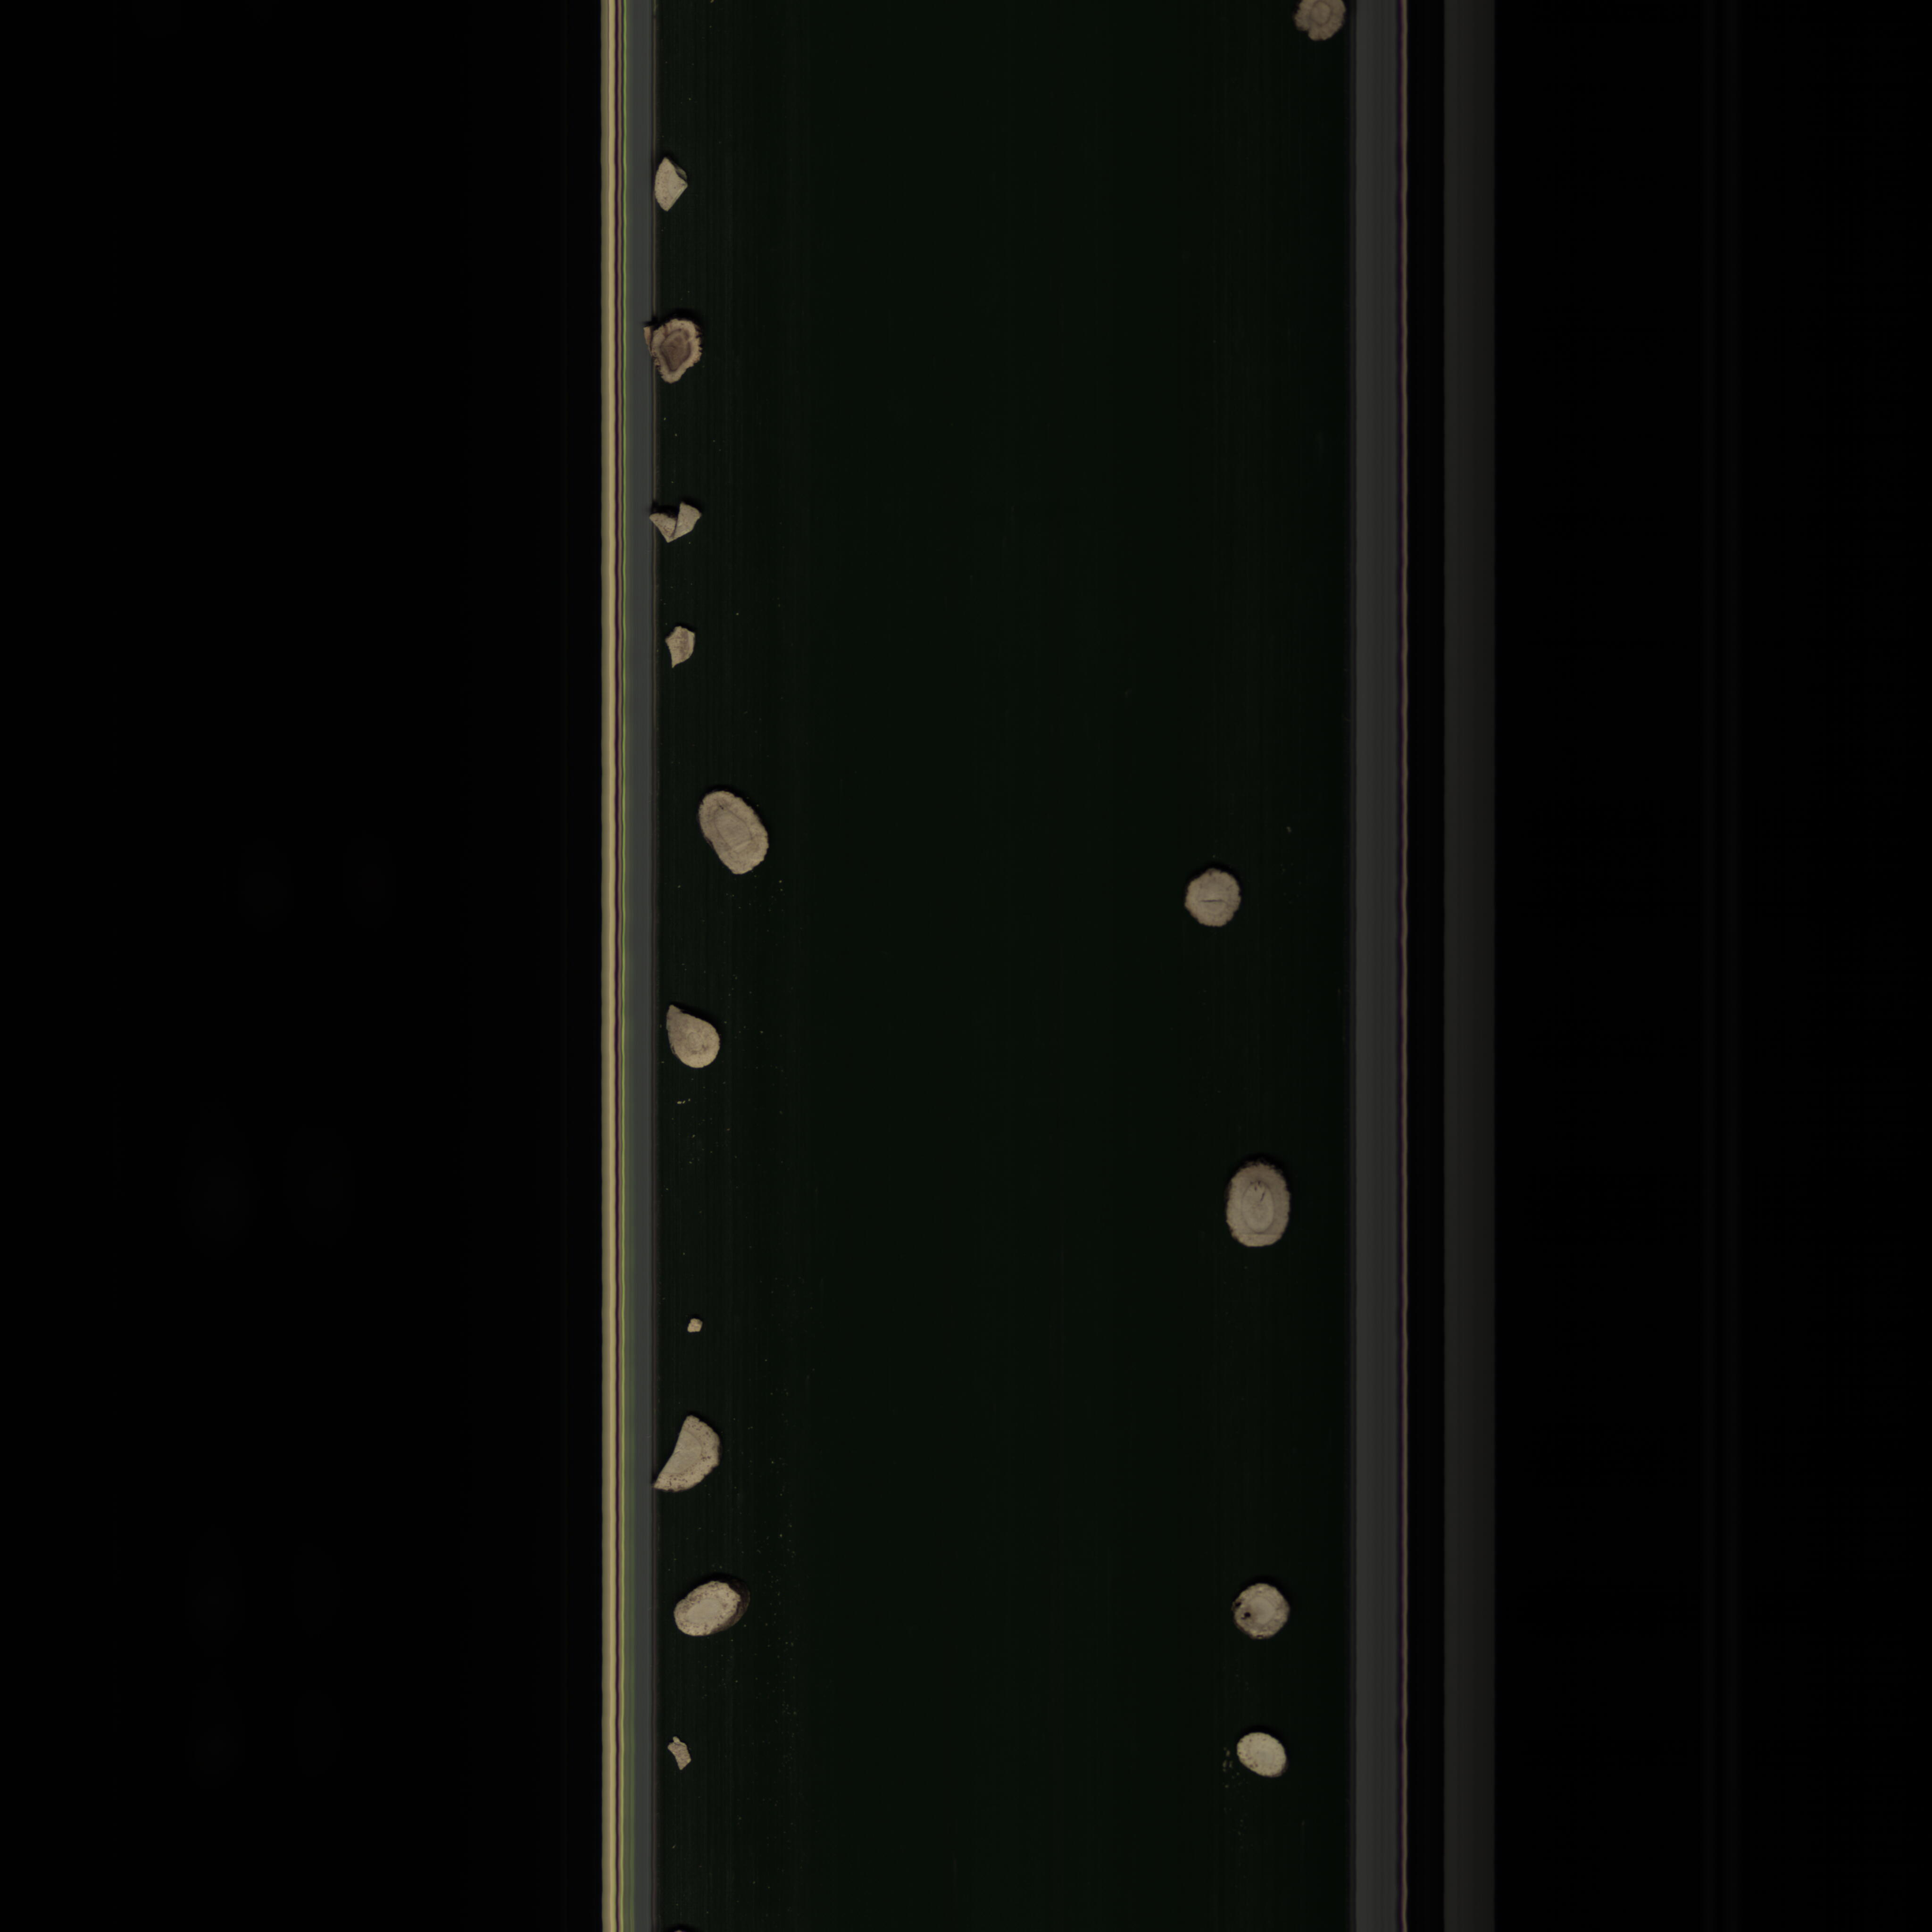debris: (656, 1401, 727, 1500), (644, 495, 706, 554), (644, 152, 697, 218), (665, 617, 701, 671), (665, 1736, 697, 1773)
distortion: (660, 991, 734, 1081)
hole: (1228, 1569, 1299, 1644)
moldy: (633, 310, 717, 389)
